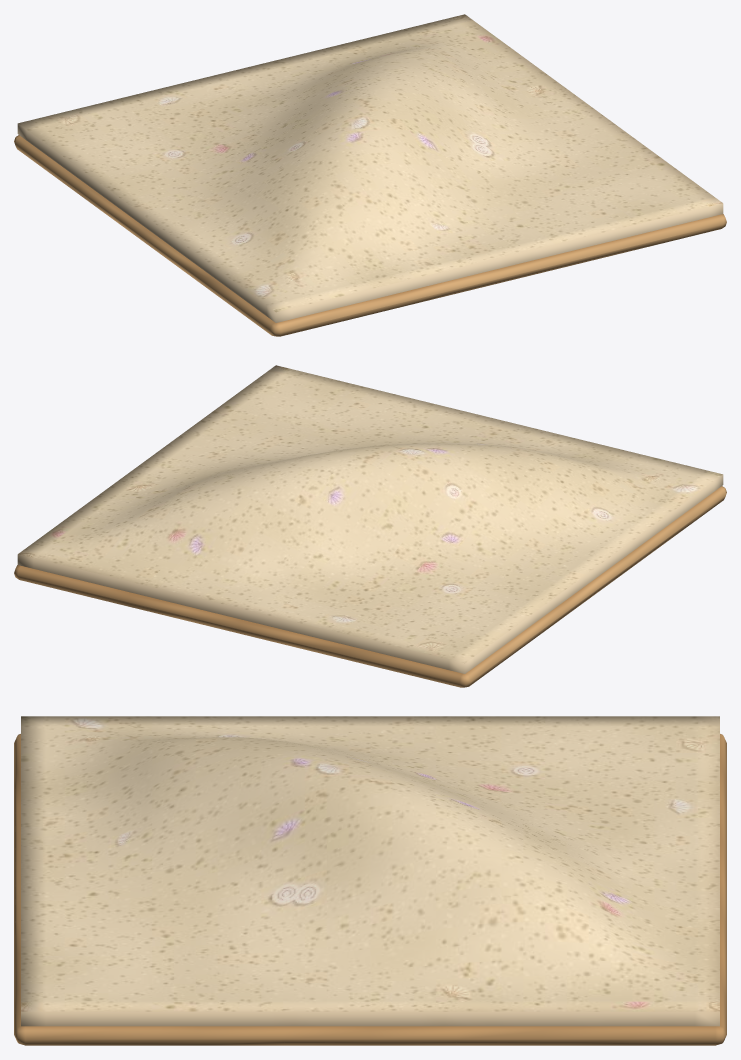
File: tile_sand_mound_b.glb
3 views of the same model, one above another, from view 1: azimuth 30°, elevation 25°; view 2: azimuth 150°, elevation 25°; view 3: azimuth 270°, elevation 25° (orthographic). The views are drawn at different scales.
Parts seen in each view (by area): view 1: mound_top, base; view 2: mound_top, base; view 3: mound_top, base.
Boxes of the visible parts, x1,y1,x2,y2 form: mound_top: [17, 14, 723, 322]; base: [14, 135, 726, 336]; mound_top: [17, 365, 723, 673]; base: [14, 486, 726, 687]; mound_top: [21, 716, 719, 1026]; base: [14, 734, 726, 1045].
Size of the model in its own units: 4 by 0.72 by 4.
3 materials, 1 textured.
